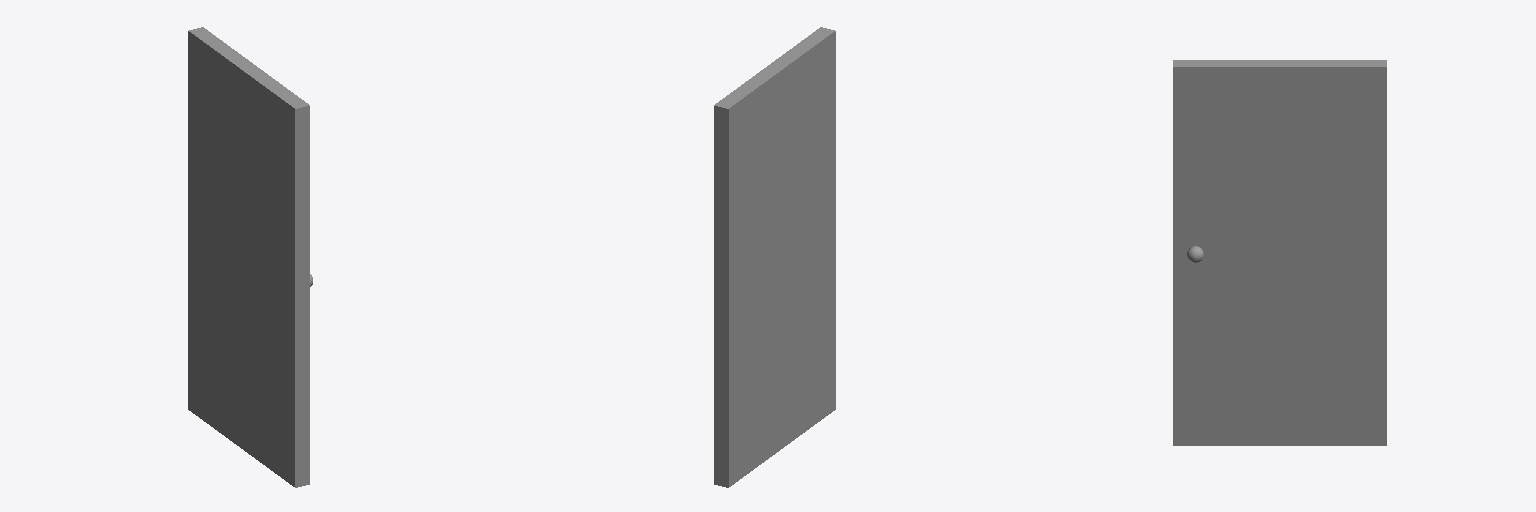
Rendered from Door4.obj.
3 renders of one model, left to right at view 1: azimuth 30°, elevation 25°; view 2: azimuth 150°, elevation 25°; view 3: azimuth 270°, elevation 25°, orthographic.
Visible parts, largest first — view 1: Door_Cube.005; view 2: Door_Cube.005; view 3: Door_Cube.005.
Part boxes in pixels (bbox=[...]): Door_Cube.005: bbox=[188, 27, 312, 487]; Door_Cube.005: bbox=[714, 27, 835, 487]; Door_Cube.005: bbox=[1173, 60, 1386, 445].
Size of the model in its own units: 0.1517 by 1.95 by 1.